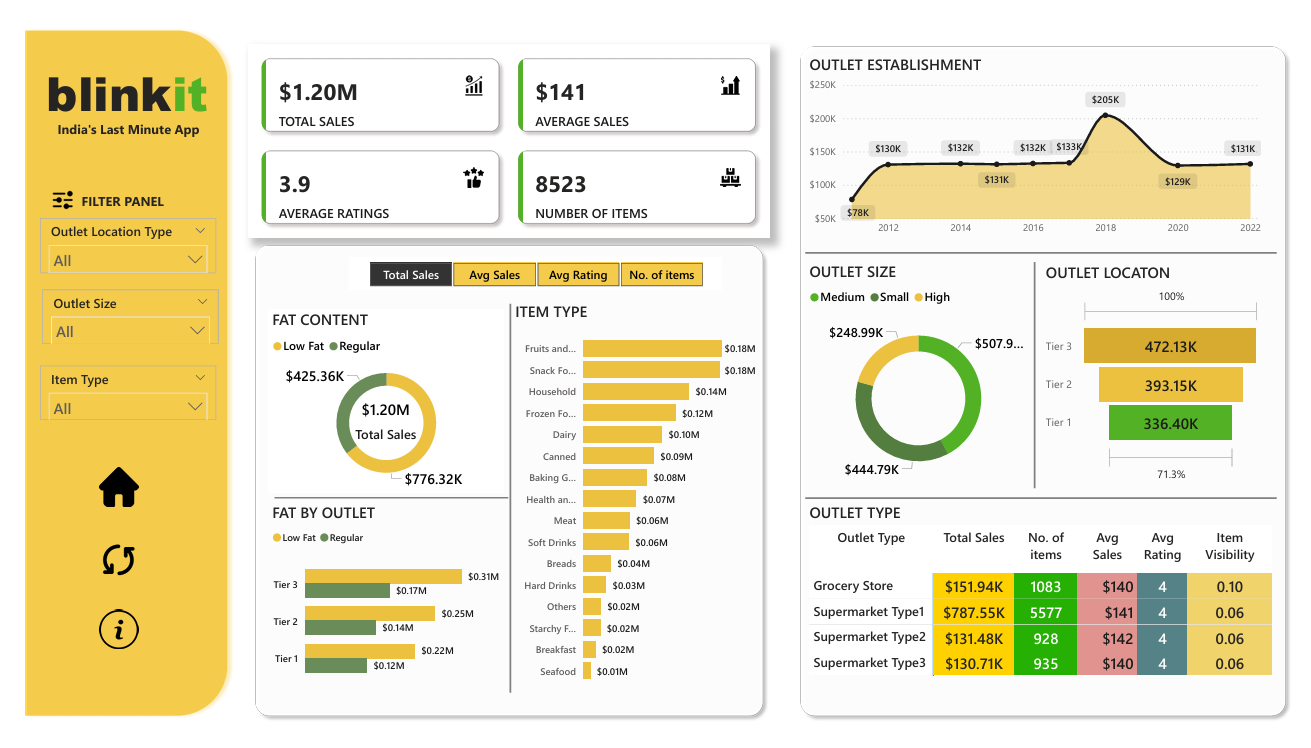

This screenshot's page, from the dashboard's own definition file:
{"tool":"powerbi","page":{"name":"Dashboard","canvas":[1600,900],"ordinal":0},"visuals":[{"type":"shape","box":[0,10,270,873.3],"z":0},{"type":"textbox","box":[30,48.6,232.9,95.7],"z":1000},{"type":"textbox","box":[44.3,125.7,205.7,37.1],"z":2000},{"type":"cardVisual","fields":{"Data":["BlinkIT Grocery Data.Total Sales","BlinkIT Grocery Data.Avg Sales","BlinkIT Grocery Data.Avg Rating","BlinkIT Grocery Data.Number of items"]},"box":[286.7,36.7,651.7,241.7],"z":3000},{"type":"shape","box":[286.7,278.3,651.7,605],"z":4000},{"type":"donutChart","title":"FAT CONTENT","fields":{"Y":["BlinkIT Grocery Data.Total Sales"],"Category":["BlinkIT Grocery Data.Item Fat Content"]},"box":[311.7,367.3,294.3,228.6],"z":5000},{"type":"slicer","fields":{"Values":["Metrics.Metrics"]},"box":[413.2,301.6,464.5,40.7],"z":6000},{"type":"card","fields":{"Values":["BlinkIT Grocery Data.Total Sales"]},"box":[406.7,456.7,103.3,95],"z":7000},{"type":"clusteredBarChart","title":"FAT BY OUTLET","fields":{"Y":["BlinkIT Grocery Data.Total Sales"],"Category":["BlinkIT Grocery Data.Outlet Location Type"],"Series":["BlinkIT Grocery Data.Item Fat Content"]},"box":[311.7,606.7,295,238.3],"z":8000},{"type":"shape","box":[320,580,291.4,44.3],"z":9000},{"type":"shape","box":[595,360,38.3,485],"z":10000},{"type":"barChart","title":"ITEM TYPE","fields":{"Y":["BlinkIT Grocery Data.Total Sales"],"Category":["BlinkIT Grocery Data.Item Type"]},"box":[615,356.7,310,488.3],"z":11000},{"type":"shape","box":[966.7,30,623.3,853.3],"z":12000},{"type":"lineChart","title":"OUTLET ESTABLISHMENT","fields":{"Category":["BlinkIT Grocery Data.Outlet Establishment Year"],"Y":["BlinkIT Grocery Data.Total Sales"]},"box":[981.7,48.3,573.3,235],"z":13000},{"type":"shape","box":[981.7,279,588.1,34.7],"z":14000},{"type":"donutChart","title":"OUTLET SIZE","fields":{"Y":["BlinkIT Grocery Data.Total Sales"],"Category":["BlinkIT Grocery Data.Outlet Size"]},"box":[981.7,306.1,282,289.5],"z":15000},{"type":"shape","box":[1248.3,308.3,40,281.7],"z":16000},{"type":"funnel","title":"OUTLET LOCATON","fields":{"Y":["Sum(BlinkIT Grocery Data.Sales)"],"Category":["BlinkIT Grocery Data.Outlet Location Type"]},"box":[1276.7,308.3,278.3,280],"z":17000},{"type":"shape","box":[981.7,585.1,588.1,34.7],"z":18000},{"type":"pivotTable","title":"OUTLET TYPE","fields":{"Rows":["BlinkIT Grocery Data.Outlet Type"],"Values":["BlinkIT Grocery Data.Total Sales","BlinkIT Grocery Data.No. of items","BlinkIT Grocery Data.Avg Sales","BlinkIT Grocery Data.Avg Rating","Avg(BlinkIT Grocery Data.Item Visibility)"]},"box":[981.7,606.7,588.3,238.3],"z":19000},{"type":"slicer","fields":{"Values":["BlinkIT Grocery Data.Outlet Location Type"]},"box":[26.7,253.3,220,68.3],"z":20000},{"type":"slicer","fields":{"Values":["BlinkIT Grocery Data.Outlet Size"]},"box":[30,341.7,220,68.3],"z":21000},{"type":"slicer","fields":{"Values":["BlinkIT Grocery Data.Item Type"]},"box":[26.7,436.7,220,68.3],"z":22000},{"type":"textbox","box":[74.2,215.7,123.7,37.7],"z":23000},{"type":"image","box":[95,559.5,60.3,58.8],"z":24000},{"type":"image","box":[36.5,206.6,37.7,46.7],"z":25000},{"type":"image","box":[95,650,60.3,58.8],"z":26000},{"type":"image","box":[95,737.4,60.3,58.8],"z":28000}]}

Visuals, with their boxes in screenshot pixels (x1, y1, x2, y2), scaled from the page's 1600x900 canvas onto the 1311x748 screenshot:
shape: bbox=(0, 8, 221, 734)
textbox: bbox=(25, 40, 215, 120)
textbox: bbox=(36, 104, 205, 135)
cardVisual - BlinkIT Grocery Data.Total Sales x BlinkIT Grocery Data.Avg Sales: bbox=(235, 31, 769, 231)
shape: bbox=(235, 231, 769, 734)
"FAT CONTENT" donutChart: bbox=(255, 305, 497, 495)
slicer - Metrics.Metrics: bbox=(339, 251, 719, 284)
card - BlinkIT Grocery Data.Total Sales: bbox=(333, 380, 418, 459)
"FAT BY OUTLET" clusteredBarChart: bbox=(255, 504, 497, 702)
shape: bbox=(262, 482, 501, 519)
shape: bbox=(488, 299, 519, 702)
"ITEM TYPE" barChart: bbox=(504, 296, 758, 702)
shape: bbox=(792, 25, 1303, 734)
"OUTLET ESTABLISHMENT" lineChart: bbox=(804, 40, 1274, 235)
shape: bbox=(804, 232, 1286, 261)
"OUTLET SIZE" donutChart: bbox=(804, 254, 1035, 495)
shape: bbox=(1023, 256, 1056, 490)
"OUTLET LOCATON" funnel: bbox=(1046, 256, 1274, 489)
shape: bbox=(804, 486, 1286, 515)
"OUTLET TYPE" pivotTable: bbox=(804, 504, 1286, 702)
slicer - BlinkIT Grocery Data.Outlet Location Type: bbox=(22, 211, 202, 267)
slicer - BlinkIT Grocery Data.Outlet Size: bbox=(25, 284, 205, 341)
slicer - BlinkIT Grocery Data.Item Type: bbox=(22, 363, 202, 420)
textbox: bbox=(61, 179, 162, 211)
image: bbox=(78, 465, 127, 514)
image: bbox=(30, 172, 61, 211)
image: bbox=(78, 540, 127, 589)
image: bbox=(78, 613, 127, 662)
